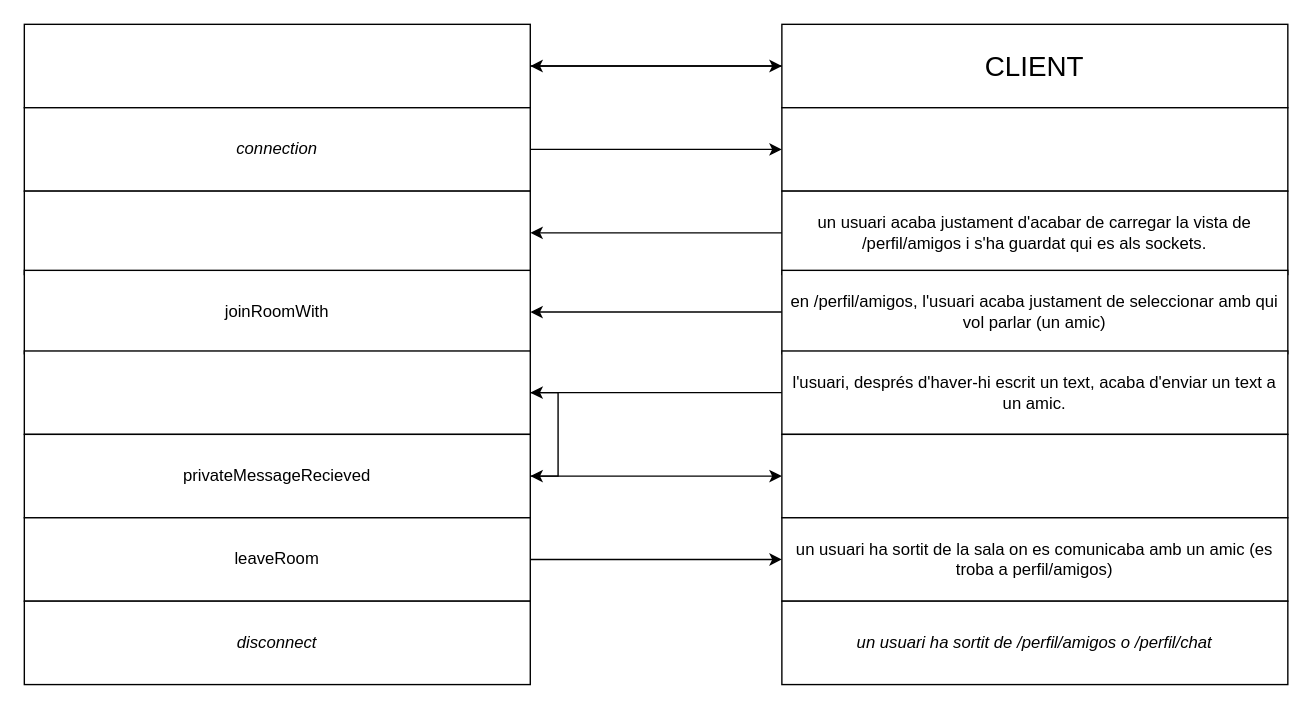
Image size: 1312x709. Some labels were removed from this diagram. Each missing label, with the centre of its shape:
"l'amic de l'usuari que va escriure el missatge, acaba de rebre un missatge." goes at pixel 1034 475.
"privateMessage" goes at pixel 276 392.
"SOCKETS" goes at pixel 276 65.
"un usuari es connecta y es troba en /perfil/amigos" goes at pixel 1034 148.
"userJoined" goes at pixel 276 232.
